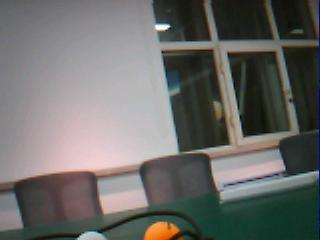oball: (144, 220, 182, 240)
